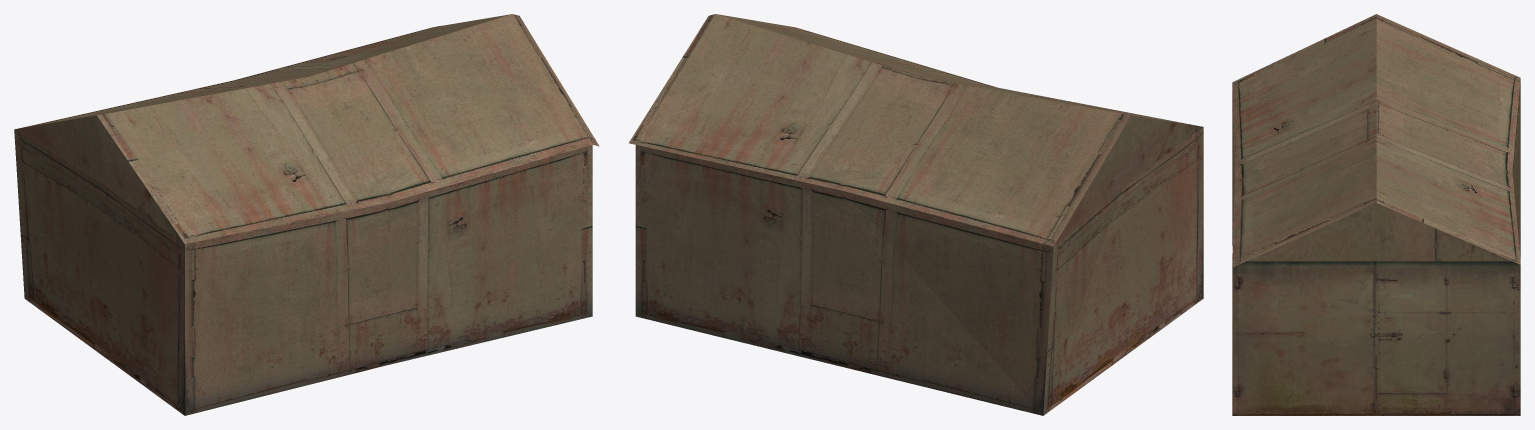
File: garage_tin_2.glb
3 renders of one model, left to right at view 1: azimuth 30°, elevation 25°; view 2: azimuth 150°, elevation 25°; view 3: azimuth 270°, elevation 25°, orthographic. The views are drawn at different scales.
Visible parts, largest first — view 1: garage_tin_2; view 2: garage_tin_2; view 3: garage_tin_2.
Boxes of the visible parts, box(x1,y1,x2,y2) form: garage_tin_2: box(14, 14, 599, 415); garage_tin_2: box(629, 14, 1203, 415); garage_tin_2: box(1232, 14, 1520, 415).
Bounding box in the file's own units: 4.38 × 2.4 × 2.86.
1 material, 1 textured.
